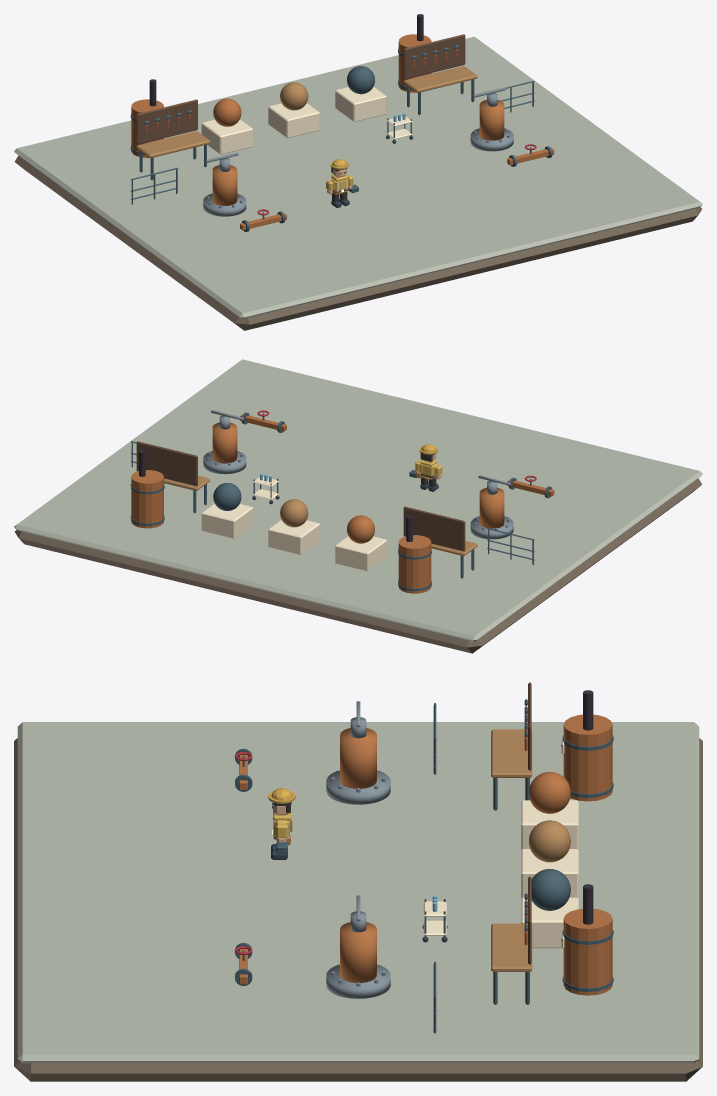
The model's file is world-pbr-workshop.glb.
The picture shows the model from 3 angles, top to bottom: view 1: azimuth 30°, elevation 25°; view 2: azimuth 150°, elevation 25°; view 3: azimuth 270°, elevation 25°; orthographic projection. The views are drawn at different scales.
Parts seen in each view (by area): view 1: terrain-top, terrain-stratum, pegboard.002, pegboard.001, material-plinth.001, material-plinth.002, material-plinth, bench-top.001, bench-top.002, pump-body.002, pump-body.001, material-sample (+6 smaller); view 2: terrain-top, terrain-stratum, pegboard.001, boiler.001, pegboard.002, boiler.002, material-plinth.002, material-plinth, material-plinth.001, pump-body.001, pump-body.002, material-sample.001 (+4 smaller); view 3: terrain-top, terrain-stratum, boiler.002, boiler.001, pump-body.002, pump-body.001, bench-top.001, bench-top.002, material-plinth.002, material-plinth, material-sample.001, material-sample (+4 smaller).
Boxes of the visible parts, x1,y1,x2,y2 form: terrain-top: [14, 36, 702, 319]; terrain-stratum: [14, 155, 701, 330]; pegboard.002: [403, 34, 465, 79]; pegboard.001: [136, 99, 197, 144]; material-plinth.001: [268, 103, 319, 138]; material-plinth.002: [335, 87, 386, 121]; material-plinth: [201, 119, 253, 154]; bench-top.001: [136, 131, 210, 158]; bench-top.002: [403, 66, 477, 92]; pump-body.002: [479, 100, 504, 140]; pump-body.001: [212, 165, 237, 205]; material-sample: [213, 98, 241, 126]; terrain-top: [14, 359, 702, 641]; terrain-stratum: [14, 478, 702, 653]; pegboard.001: [403, 506, 465, 551]; boiler.001: [398, 535, 431, 593]; pegboard.002: [136, 441, 197, 486]; boiler.002: [131, 470, 163, 528]; material-plinth.002: [201, 503, 253, 538]; material-plinth: [335, 536, 386, 571]; material-plinth.001: [268, 520, 319, 555]; pump-body.001: [479, 488, 504, 528]; pump-body.002: [212, 422, 237, 463]; material-sample.001: [280, 499, 308, 527]; terrain-top: [17, 722, 699, 1063]; terrain-stratum: [14, 738, 702, 1081]; boiler.002: [563, 908, 612, 995]; boiler.001: [563, 714, 612, 801]; pump-body.002: [340, 922, 376, 982]; pump-body.001: [340, 728, 376, 788]; bench-top.001: [491, 729, 532, 777]; bench-top.002: [491, 923, 532, 971]; material-plinth.002: [521, 897, 578, 948]; material-plinth: [521, 800, 578, 849]; material-sample.001: [529, 820, 570, 862]; material-sample: [529, 771, 570, 813].
Size of the model in its own units: 21 by 3.85 by 18.
